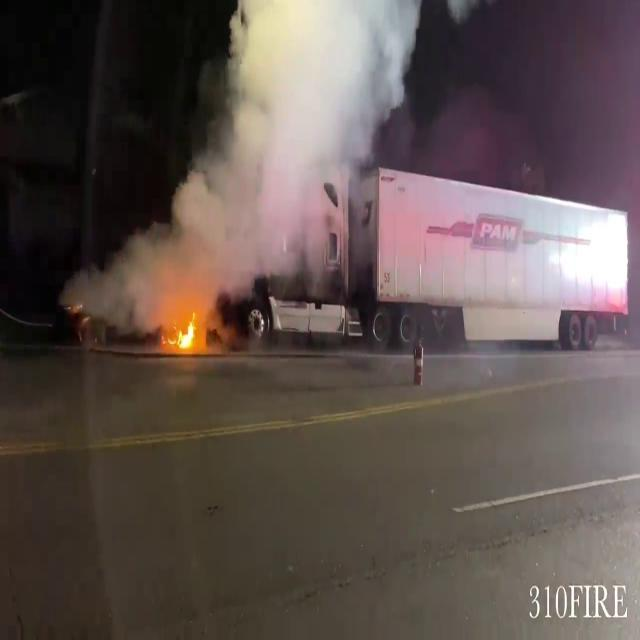Fire: (168, 305, 202, 357)
Smoke: (116, 0, 426, 322)
